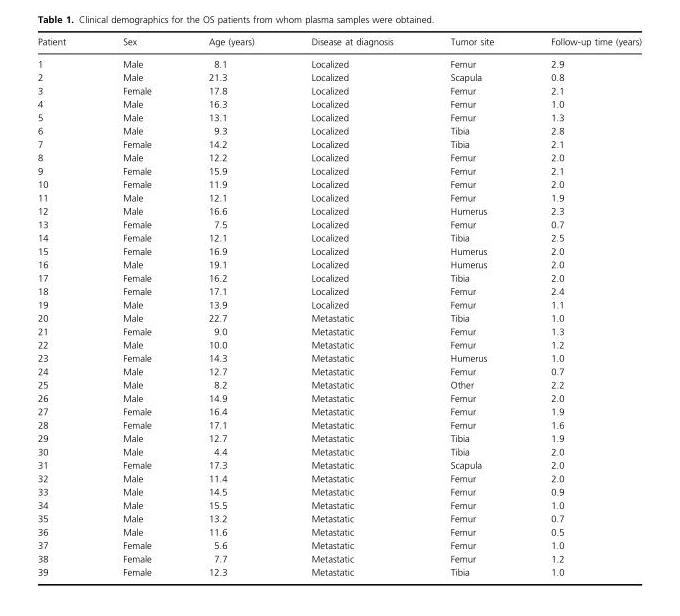table: (37, 36, 640, 577)
table column: (282, 36, 421, 577), (521, 36, 640, 577), (179, 36, 282, 577), (421, 36, 521, 577), (93, 36, 179, 577), (37, 36, 93, 577)
table column header: (37, 36, 640, 53)
table row: (37, 36, 640, 53), (37, 53, 640, 70), (37, 70, 640, 84), (37, 110, 640, 124), (37, 137, 640, 151), (37, 177, 640, 191), (37, 217, 640, 231), (37, 244, 640, 258), (37, 284, 640, 298), (37, 324, 640, 338), (37, 351, 640, 365), (37, 391, 640, 405), (37, 431, 640, 445), (37, 471, 640, 485), (37, 498, 640, 512), (37, 538, 640, 552), (37, 84, 640, 97), (37, 97, 640, 110), (37, 124, 640, 137), (37, 151, 640, 164), (37, 164, 640, 177), (37, 191, 640, 204), (37, 204, 640, 217), (37, 231, 640, 244), (37, 258, 640, 271), (37, 271, 640, 284), (37, 298, 640, 311), (37, 311, 640, 324), (37, 338, 640, 351), (37, 365, 640, 378), (37, 378, 640, 391), (37, 405, 640, 418), (37, 418, 640, 431), (37, 445, 640, 458), (37, 458, 640, 471), (37, 485, 640, 498), (37, 512, 640, 525), (37, 525, 640, 538), (37, 552, 640, 565), (37, 565, 640, 577)
